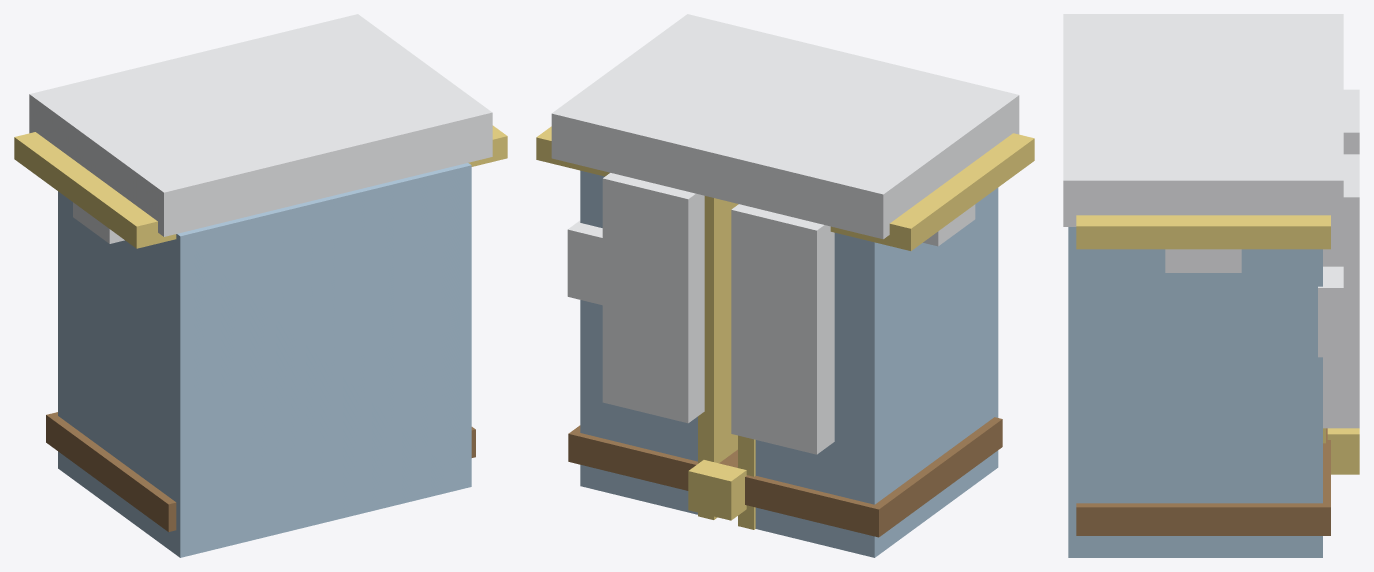
File: pirata_neve_tronco.glb
3 views of the same model, side by side, from view 1: azimuth 30°, elevation 25°; view 2: azimuth 150°, elevation 25°; view 3: azimuth 270°, elevation 25° (orthographic). The views are drawn at different scales.
Parts seen in each view (by area): view 1: pirata_neve_tronco; view 2: pirata_neve_tronco; view 3: pirata_neve_tronco.
Boxes of the visible parts, x1=… form: pirata_neve_tronco: x1=14, y1=14, x2=507, y2=557; pirata_neve_tronco: x1=536, y1=14, x2=1034, y2=557; pirata_neve_tronco: x1=1063, y1=14, x2=1359, y2=557.
Bounding box in the file's own units: 0.7 × 0.67 × 0.465.
